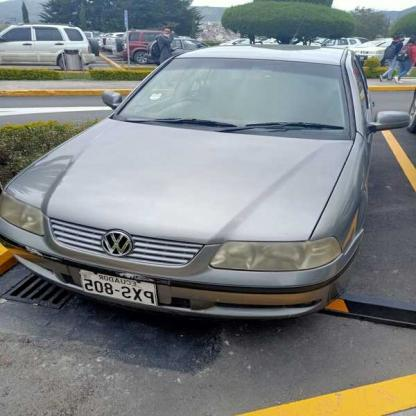Placa: (76, 271, 157, 309)
